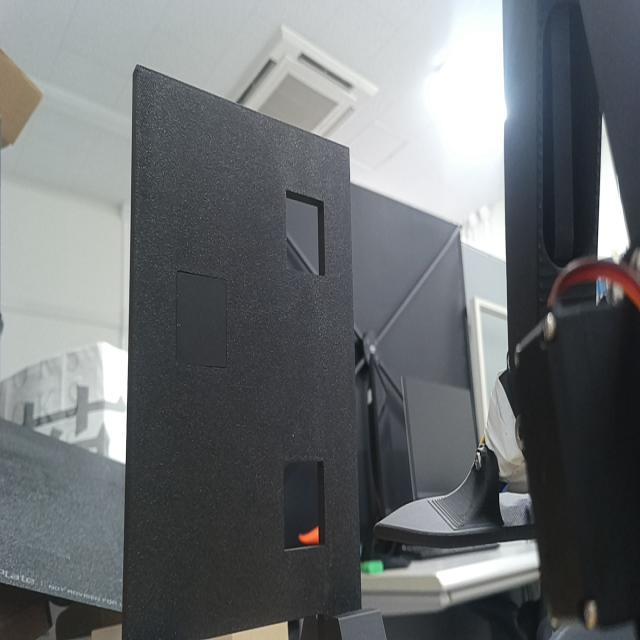Obstacle: (287, 462, 325, 549), (287, 191, 324, 273)
Wall: (127, 65, 361, 639)
